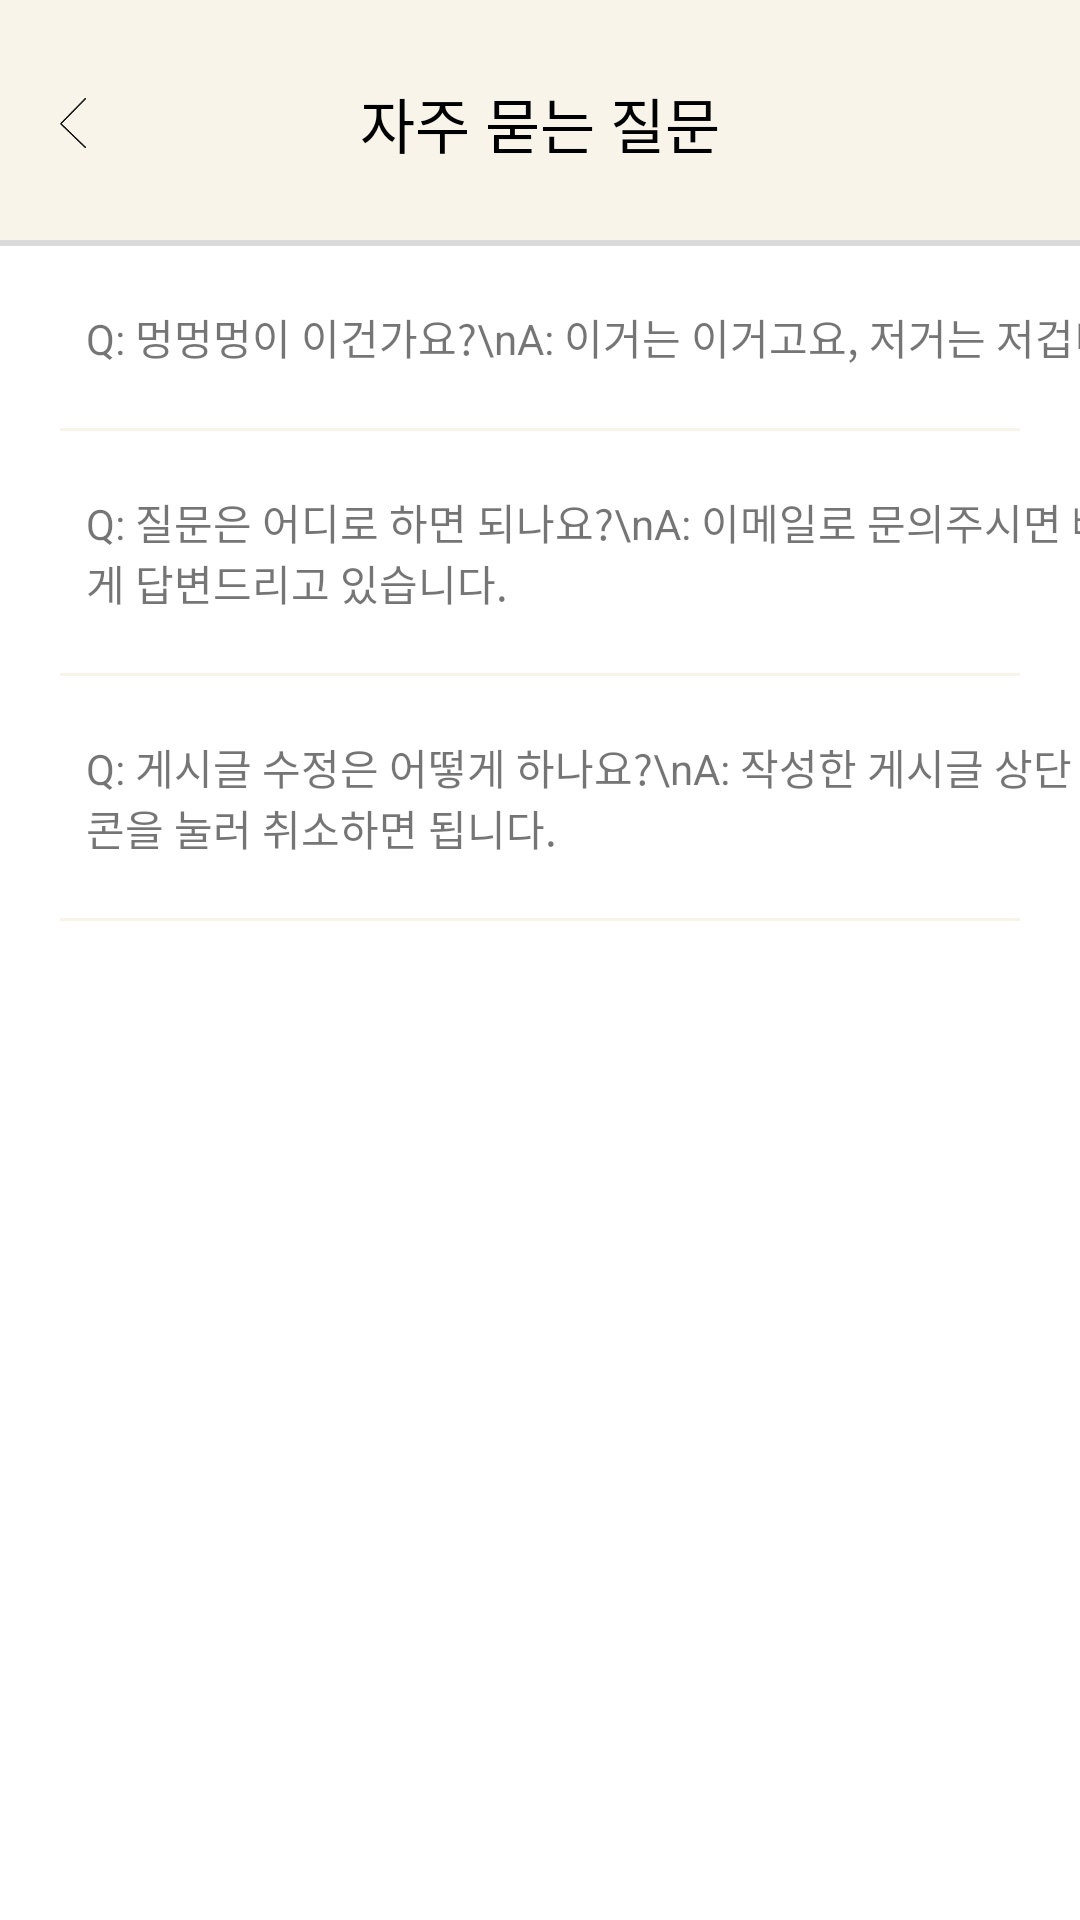

Icon bounding boxes for this 1080×1920 phone screenshot, format (x1=x1, y1=y1, x2=x2, y2=y2):
backbtn: (x1=60, y1=98, x2=86, y2=148)
